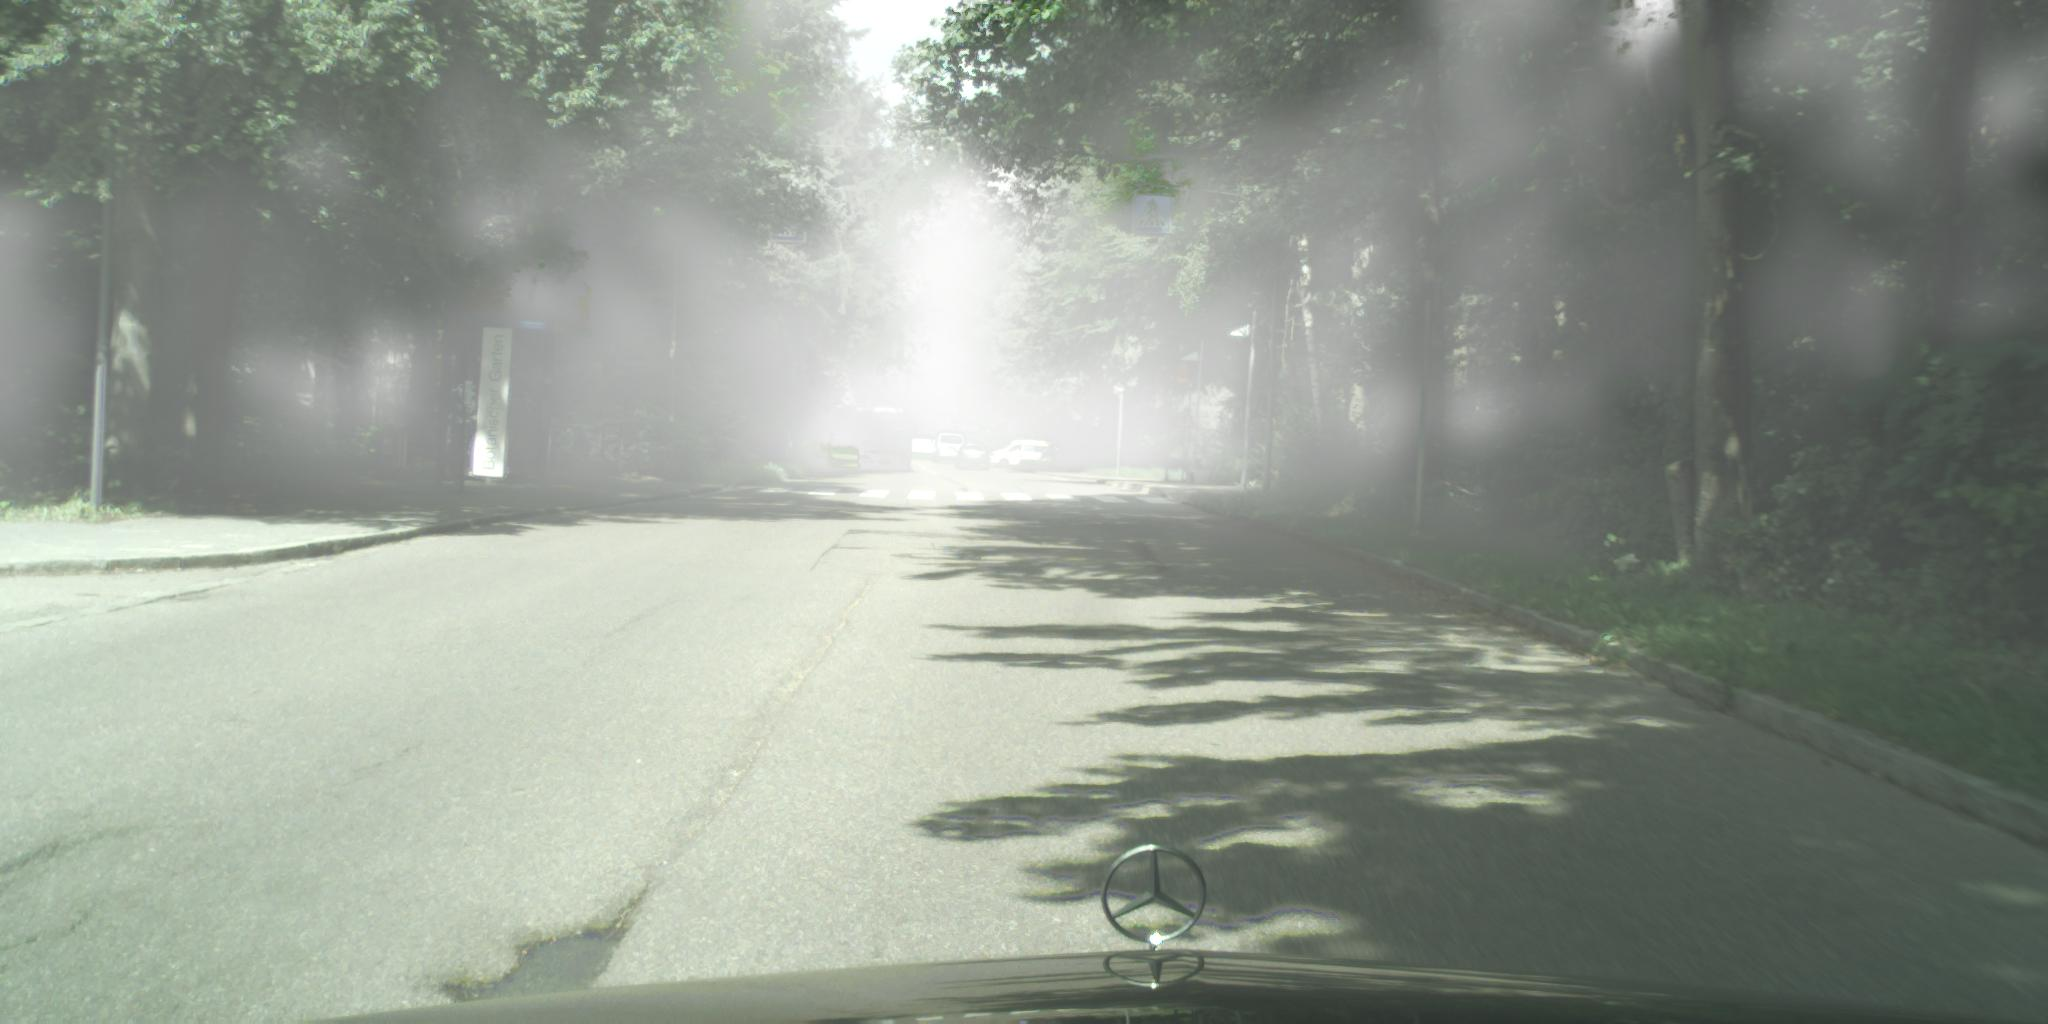bus: (858, 406, 914, 472)
car: (984, 441, 1068, 469), (955, 441, 990, 472), (931, 434, 964, 465)
